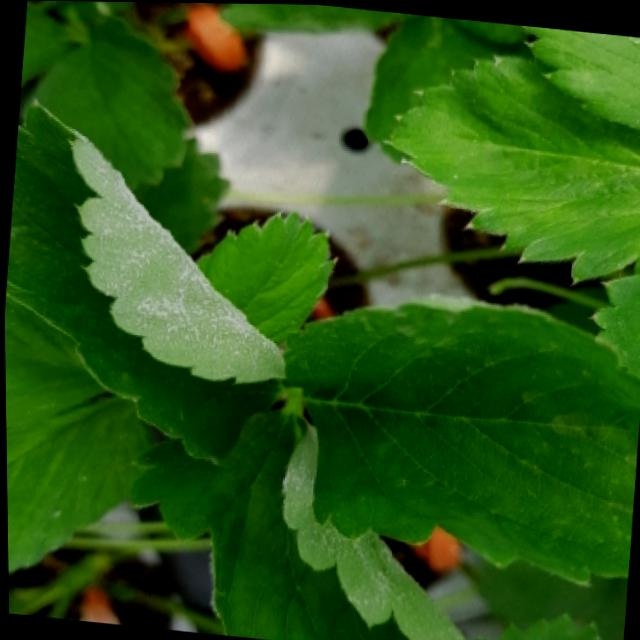Powdery Mildew Leaf: (4, 100, 284, 467), (206, 409, 465, 640)
